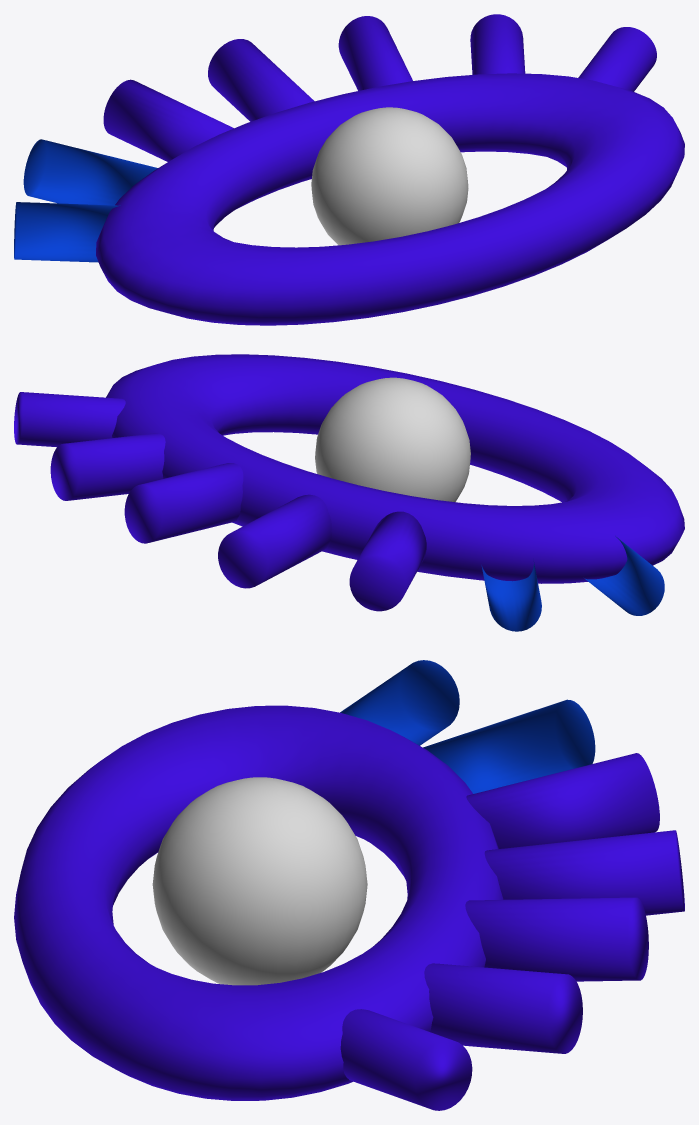
Rendered from oeilbleu.gltf.
The picture shows the model from 3 angles, top to bottom: view 1: azimuth 30°, elevation 25°; view 2: azimuth 150°, elevation 25°; view 3: azimuth 270°, elevation 25°; orthographic projection. The views are drawn at different scales.
Visible parts, largest first — view 1: Cylinder.006, Sphere; view 2: Cylinder.006, Sphere; view 3: Cylinder.006, Sphere.
Boxes of the visible parts, x1,y1,x2,y2 form: Cylinder.006: (14, 14, 684, 325); Sphere: (311, 107, 468, 245); Cylinder.006: (14, 354, 684, 631); Sphere: (315, 377, 470, 502); Cylinder.006: (14, 660, 684, 1110); Sphere: (152, 777, 367, 985).
Bounding box in the file's own units: 9.51 × 2 × 6.24.
